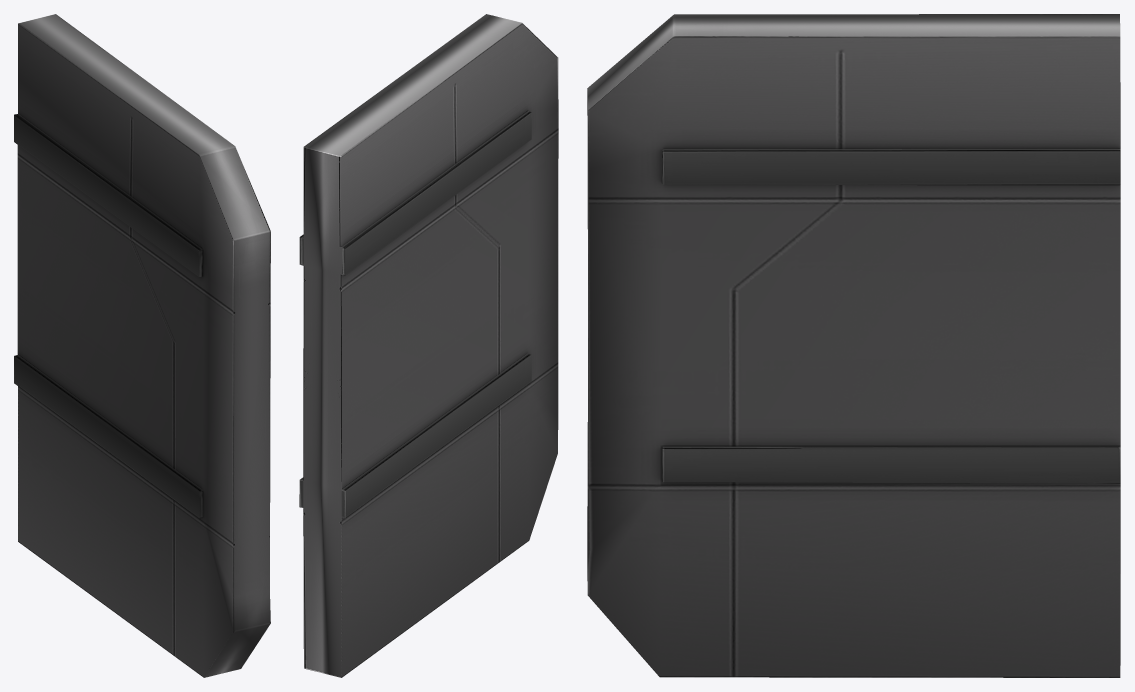
Rendered from Cloison.fbx.
3 views of the same model, side by side, from view 1: azimuth 30°, elevation 25°; view 2: azimuth 150°, elevation 25°; view 3: azimuth 270°, elevation 25° (orthographic). The views are drawn at different scales.
Visible parts, largest first — view 1: Low_Cloison:RetopoGroup1; view 2: Low_Cloison:RetopoGroup1; view 3: Low_Cloison:RetopoGroup1.
Part boxes in pixels (box(x1,y1,x2,y2)): Low_Cloison:RetopoGroup1: box(14, 14, 270, 677); Low_Cloison:RetopoGroup1: box(299, 14, 558, 677); Low_Cloison:RetopoGroup1: box(587, 14, 1120, 677).
Size of the model in its own units: 22.9 by 247 by 186.
